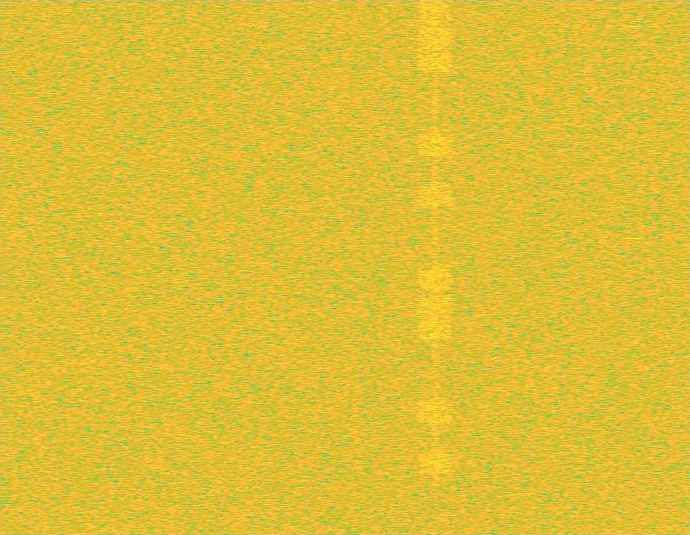DSSS: (433, 0, 437, 534)
LTE: (418, 0, 452, 534)
Radar: (626, 0, 640, 534)
